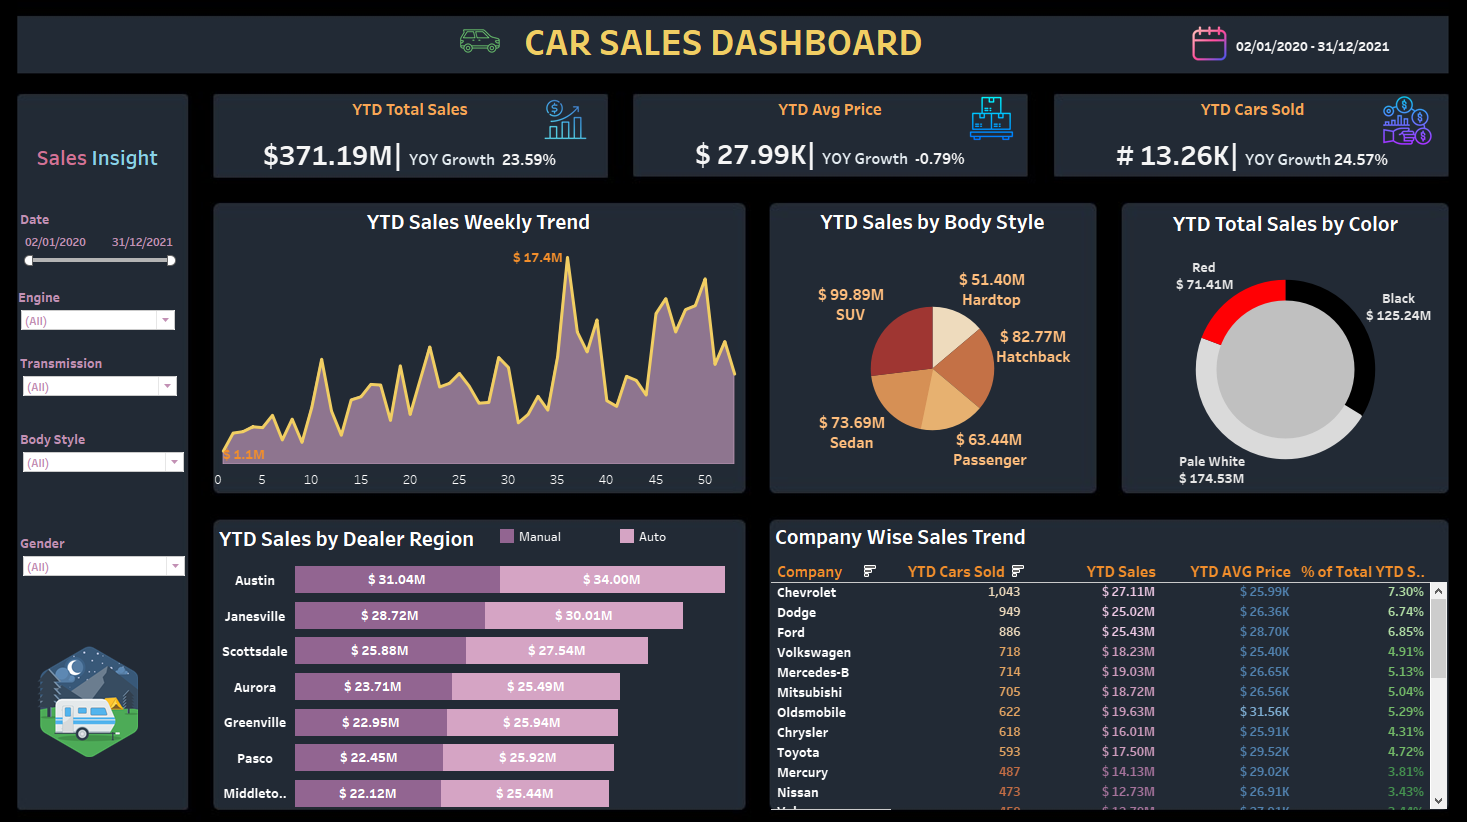

Layout of this report page (visuals, bound fields, positions):
{"tool":"tableau","page":{"name":"Dashboard 1","canvas":[1600,850],"ordinal":0},"visuals":[{"type":"image","param":"D:/Car Sales - Tableau/Car Sales Background.jpg","box":[8,8,1584,834]},{"type":"text","box":[506,27,569,52]},{"type":"image","param":"D:/Car Sales - Tableau/Images Used/Car Icon.png","box":[523,29,67,47]},{"type":"worksheet","title":"Sheet 9","mark":"Automatic","box":[1246,31,269,54]},{"type":"image","param":"D:/Car Sales - Tableau/Images Used/calendar.png","box":[1257,36,44,38]},{"type":"worksheet","title":"YTD Total Sales","mark":"Automatic","box":[280,106,394,85]},{"type":"worksheet","title":"YTD Avg Price","mark":"Automatic","box":[700,106,394,82]},{"type":"worksheet","title":"YTD Cars Sold","mark":"Automatic","box":[1122,106,395,84]},{"type":"image","param":"D:/Car Sales - Tableau/Images Used/Avg Price Icon.png","box":[1035,107,53,46]},{"type":"image","param":"D:/Car Sales - Tableau/Images Used/Cars Sold Icon.png","box":[1449,107,62,50]},{"type":"image","param":"D:/Car Sales - Tableau/Images Used/Sales Icon.png","box":[609,108,53,46]},{"type":"text","box":[101,154,127,30]},{"type":"worksheet","title":"YTD Sales Weekly Trend","mark":"Automatic","rows":["Calculation_533676563367981056","Calculation_533676563367981056"],"cols":["Date"],"box":[280,215,531,291]},{"type":"worksheet","title":"YTD Sales by Body Style","mark":"Pie","box":[836,215,327,289]},{"type":"worksheet","title":"YTD Total Sales by Color","mark":"Pie","rows":["Calculation_533676563380830220","Calculation_533676563380830220"],"box":[1189,217,327,287]},{"type":"filter","title":"YTD Sales Weekly Trend","param":"[federated.1u6ye3c1i11gh1196m34h0nkhbb9].[none:Date:qk]","box":[87,222,160,61]},{"type":"filter","title":"YTD Sales Weekly Trend","param":"[federated.1u6ye3c1i11gh1196m34h0nkhbb9].[none:Engine:nk]","box":[85,300,160,57]},{"type":"filter","title":"YTD Sales Weekly Trend","param":"[federated.1u6ye3c1i11gh1196m34h0nkhbb9].[none:Transmission:nk]","box":[87,366,160,61]},{"type":"filter","title":"YTD Sales Weekly Trend","param":"[federated.1u6ye3c1i11gh1196m34h0nkhbb9].[none:Body Style:nk]","box":[87,442,167,80]},{"type":"worksheet","title":"Company Wise Sales Trend","mark":"Automatic","rows":["Company"],"box":[838,530,676,292]},{"type":"worksheet","title":"YTD Sales by Dealer Region","mark":"Automatic","rows":["Dealer_Region"],"cols":["Calculation_533676563367981056"],"box":[282,532,531,291]},{"type":"legend","title":"YTD Sales by Dealer Region","param":"[federated.1u6ye3c1i11gh1196m34h0nkhbb9].[none:Transmission:nk]","box":[564,538,244,27]},{"type":"filter","title":"YTD Sales Weekly Trend","param":"[federated.1u6ye3c1i11gh1196m34h0nkhbb9].[none:Gender:nk]","box":[87,546,168,81]},{"type":"image","param":"D:/Car Sales - Tableau/Images Used/moon.png","box":[104,658,139,111]}]}

Visuals, with their boxes on the page's 1600x850 design canvas (x1, y1, x2, y2). These are canvas units, not pixel positions in the 1469x822 screenshot, which may show the page scaled, cropped or inside an application window:
image: bbox(8, 8, 1592, 842)
text: bbox(506, 27, 1075, 79)
image: bbox(523, 29, 590, 76)
"Sheet 9" worksheet: bbox(1246, 31, 1515, 85)
image: bbox(1257, 36, 1301, 74)
"YTD Total Sales" worksheet: bbox(280, 106, 674, 191)
"YTD Avg Price" worksheet: bbox(700, 106, 1094, 188)
"YTD Cars Sold" worksheet: bbox(1122, 106, 1517, 190)
image: bbox(1035, 107, 1088, 153)
image: bbox(1449, 107, 1511, 157)
image: bbox(609, 108, 662, 154)
text: bbox(101, 154, 228, 184)
"YTD Sales Weekly Trend" worksheet: bbox(280, 215, 811, 506)
"YTD Sales by Body Style" worksheet (Pie marks): bbox(836, 215, 1163, 504)
"YTD Total Sales by Color" worksheet (Pie marks): bbox(1189, 217, 1516, 504)
"YTD Sales Weekly Trend" filter: bbox(87, 222, 247, 283)
"YTD Sales Weekly Trend" filter: bbox(85, 300, 245, 357)
"YTD Sales Weekly Trend" filter: bbox(87, 366, 247, 427)
"YTD Sales Weekly Trend" filter: bbox(87, 442, 254, 522)
"Company Wise Sales Trend" worksheet: bbox(838, 530, 1514, 822)
"YTD Sales by Dealer Region" worksheet: bbox(282, 532, 813, 823)
"YTD Sales by Dealer Region" legend: bbox(564, 538, 808, 565)
"YTD Sales Weekly Trend" filter: bbox(87, 546, 255, 627)
image: bbox(104, 658, 243, 769)
